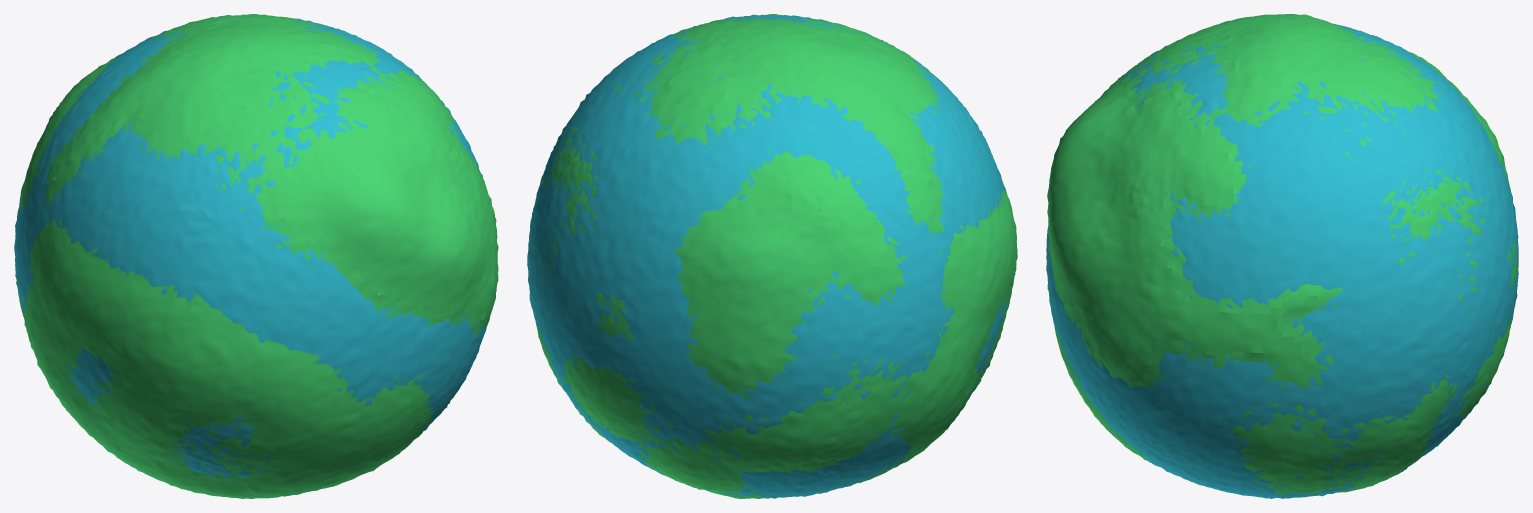
File: PlanetSegmented.fbx
3 views of the same model, side by side, from view 1: azimuth 30°, elevation 25°; view 2: azimuth 150°, elevation 25°; view 3: azimuth 270°, elevation 25° (orthographic).
Parts seen in each view (by area): view 1: Planet, Water, Segment002, Segment001; view 2: Water, Planet, Segment001; view 3: Water, Planet, Segment002, Segment001.
Part boxes in pixels (box(x1,y1,x2,y2)): Planet: box(15, 15, 490, 498); Water: box(14, 18, 486, 480); Segment002: box(275, 76, 498, 322); Segment001: box(52, 14, 360, 180); Water: box(527, 15, 1008, 498); Planet: box(535, 14, 1017, 498); Segment001: box(667, 19, 933, 212); Water: box(1046, 23, 1518, 498); Planet: box(1048, 22, 1518, 494); Segment002: box(1047, 81, 1317, 381); Segment001: box(1181, 14, 1413, 104).
Size of the model in its own units: 5048 by 5061 by 4994.
